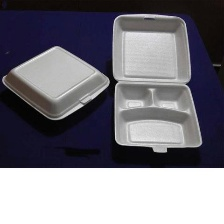foam_box: (108, 10, 206, 157), (0, 41, 113, 123)
